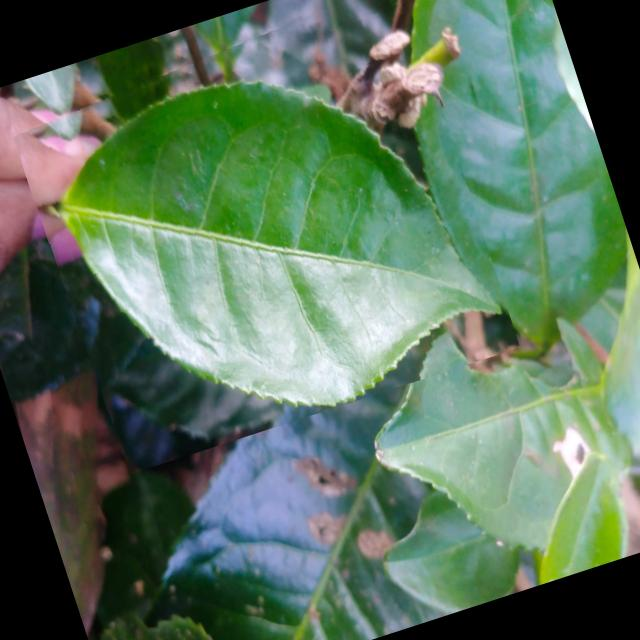Category D(7+ days, Not for Tea): (2, 0, 519, 477)
